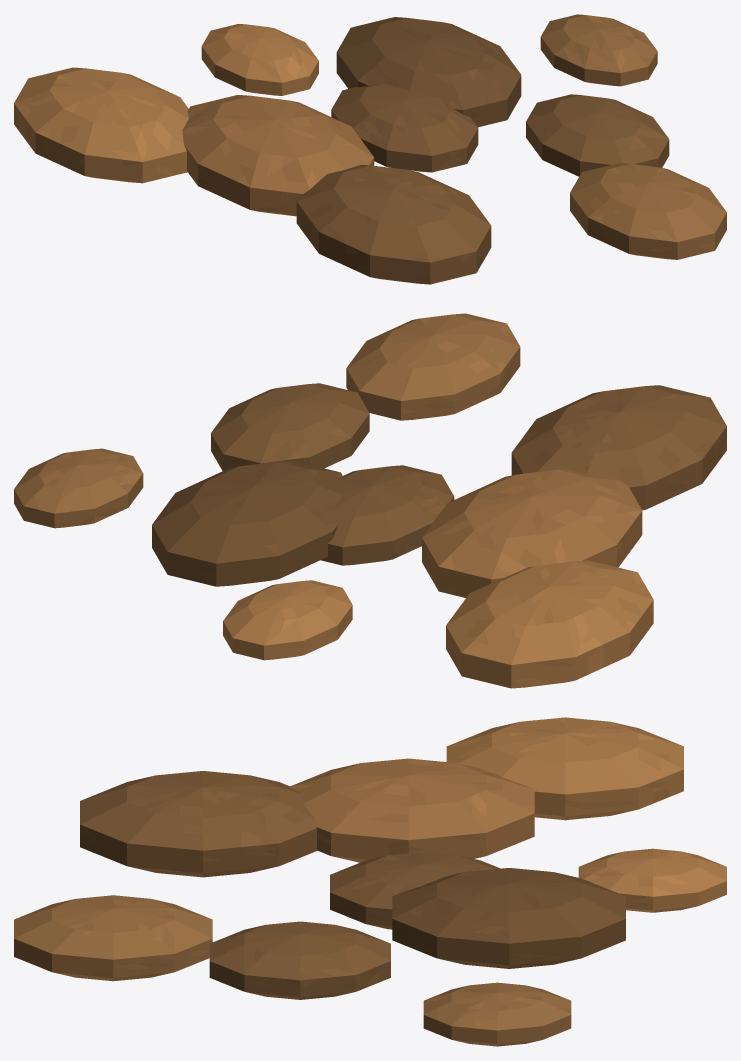
The model's file is seed_lettuce.glb.
3 renders of one model, top to bottom at view 1: azimuth 30°, elevation 25°; view 2: azimuth 150°, elevation 25°; view 3: azimuth 270°, elevation 25°, orthographic. The views are drawn at different scales.
Visible parts, largest first — view 1: block_grain 5, block_grain 7, block_grain 2, block_grain 1, block_grain 8, block_grain 0, block_grain 3, block_grain 4, block_grain 6; view 2: block_grain 7, block_grain 2, block_grain 1, block_grain 5, block_grain 8, block_grain 3, block_grain 0, block_grain 4, block_grain 6; view 3: block_grain 5, block_grain 2, block_grain 1, block_grain 7, block_grain 8, block_grain 3, block_grain 6, block_grain 4, block_grain 0.
Part boxes in pixels (left/top/right/bottom): block_grain 5: left=296, top=164, right=491, bottom=284; block_grain 7: left=14, top=67, right=188, bottom=183; block_grain 2: left=182, top=95, right=374, bottom=216; block_grain 1: left=336, top=17, right=521, bottom=127; block_grain 8: left=570, top=163, right=726, bottom=259; block_grain 0: left=331, top=83, right=478, bottom=172; block_grain 3: left=526, top=94, right=669, bottom=176; block_grain 4: left=201, top=24, right=318, bottom=95; block_grain 6: left=540, top=14, right=657, bottom=86; block_grain 7: left=446, top=560, right=653, bottom=688; block_grain 2: left=422, top=469, right=642, bottom=597; block_grain 1: left=152, top=460, right=343, bottom=586; block_grain 5: left=511, top=385, right=726, bottom=510; block_grain 8: left=346, top=313, right=520, bottom=420; block_grain 3: left=211, top=383, right=369, bottom=470; block_grain 0: left=321, top=465, right=454, bottom=565; block_grain 4: left=223, top=580, right=352, bottom=660; block_grain 6: left=14, top=448, right=143, bottom=528; block_grain 5: left=80, top=771, right=316, bottom=877; block_grain 2: left=290, top=758, right=534, bottom=862; block_grain 1: left=392, top=868, right=625, bottom=968; block_grain 7: left=446, top=717, right=683, bottom=820; block_grain 8: left=14, top=895, right=212, bottom=981; block_grain 3: left=209, top=921, right=390, bottom=999; block_grain 6: left=423, top=982, right=571, bottom=1046; block_grain 4: left=578, top=848, right=726, bottom=912; block_grain 0: left=330, top=852, right=500, bottom=929.
Size of the model in its own units: 0.0214 by 0.00257 by 0.022.
Materials: 1 (1 with a texture image).
